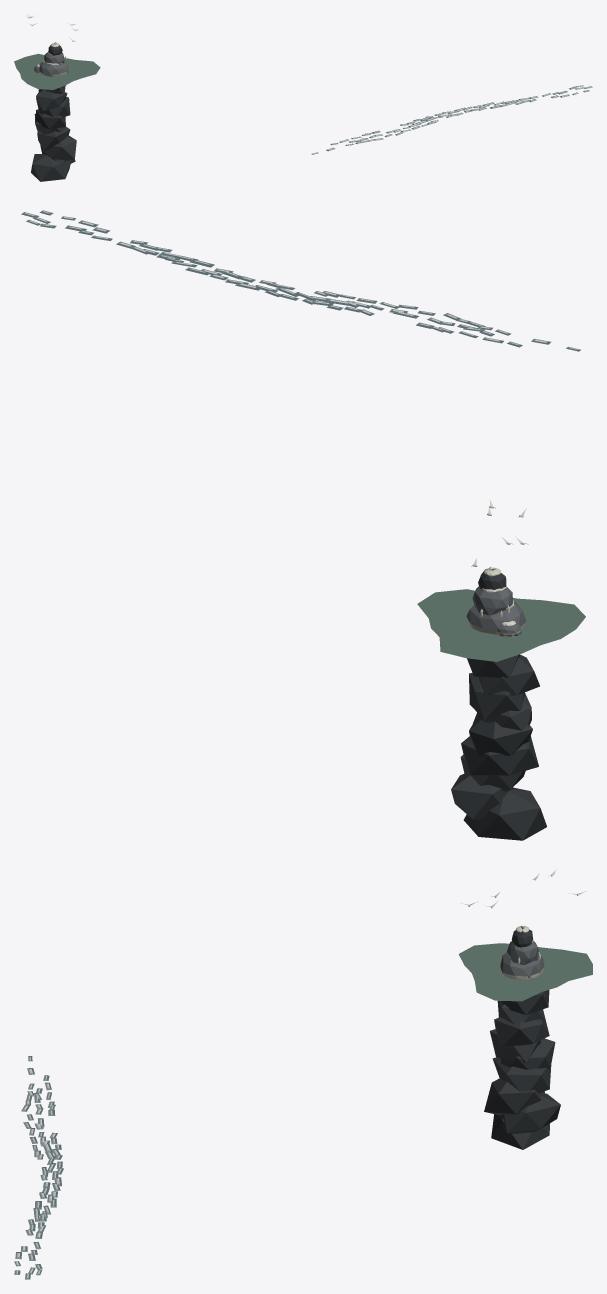
File: chunk_1_2.glb
3 renders of one model, top to bottom at view 1: azimuth 30°, elevation 25°; view 2: azimuth 150°, elevation 25°; view 3: azimuth 270°, elevation 25°, orthographic. The views are drawn at different scales.
Parts seen in each view (by area): view 1: chunk_1_2; view 2: chunk_1_2; view 3: chunk_1_2.
Boxes of the visible parts, <box> form: chunk_1_2: <box>14,14,592,181</box>; chunk_1_2: <box>21,210,585,840</box>; chunk_1_2: <box>14,870,592,1279</box>.
Bounding box in the file's own units: 112 × 40.18 × 81.06.
